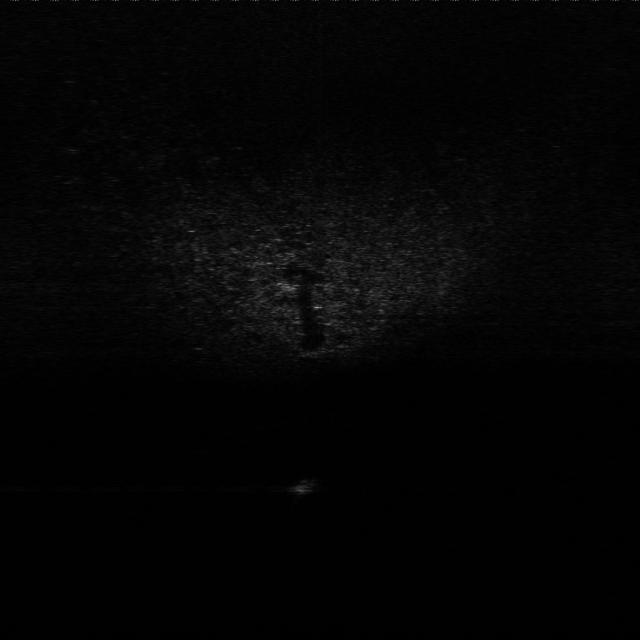cylinder: (288, 473, 318, 497)
